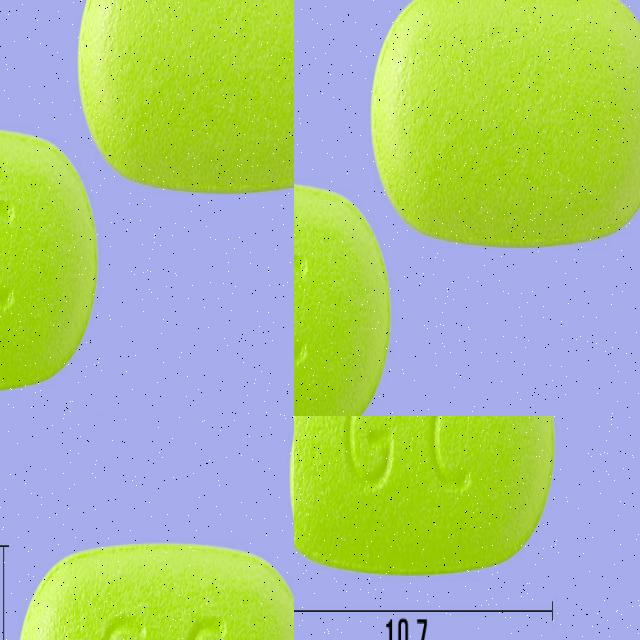Claricin - 250mg: (0, 207, 181, 416)
Clarid: (363, 0, 640, 238), (294, 187, 391, 416)
Clarimicin: (294, 416, 555, 580)
Clirocin: (13, 538, 294, 640)
